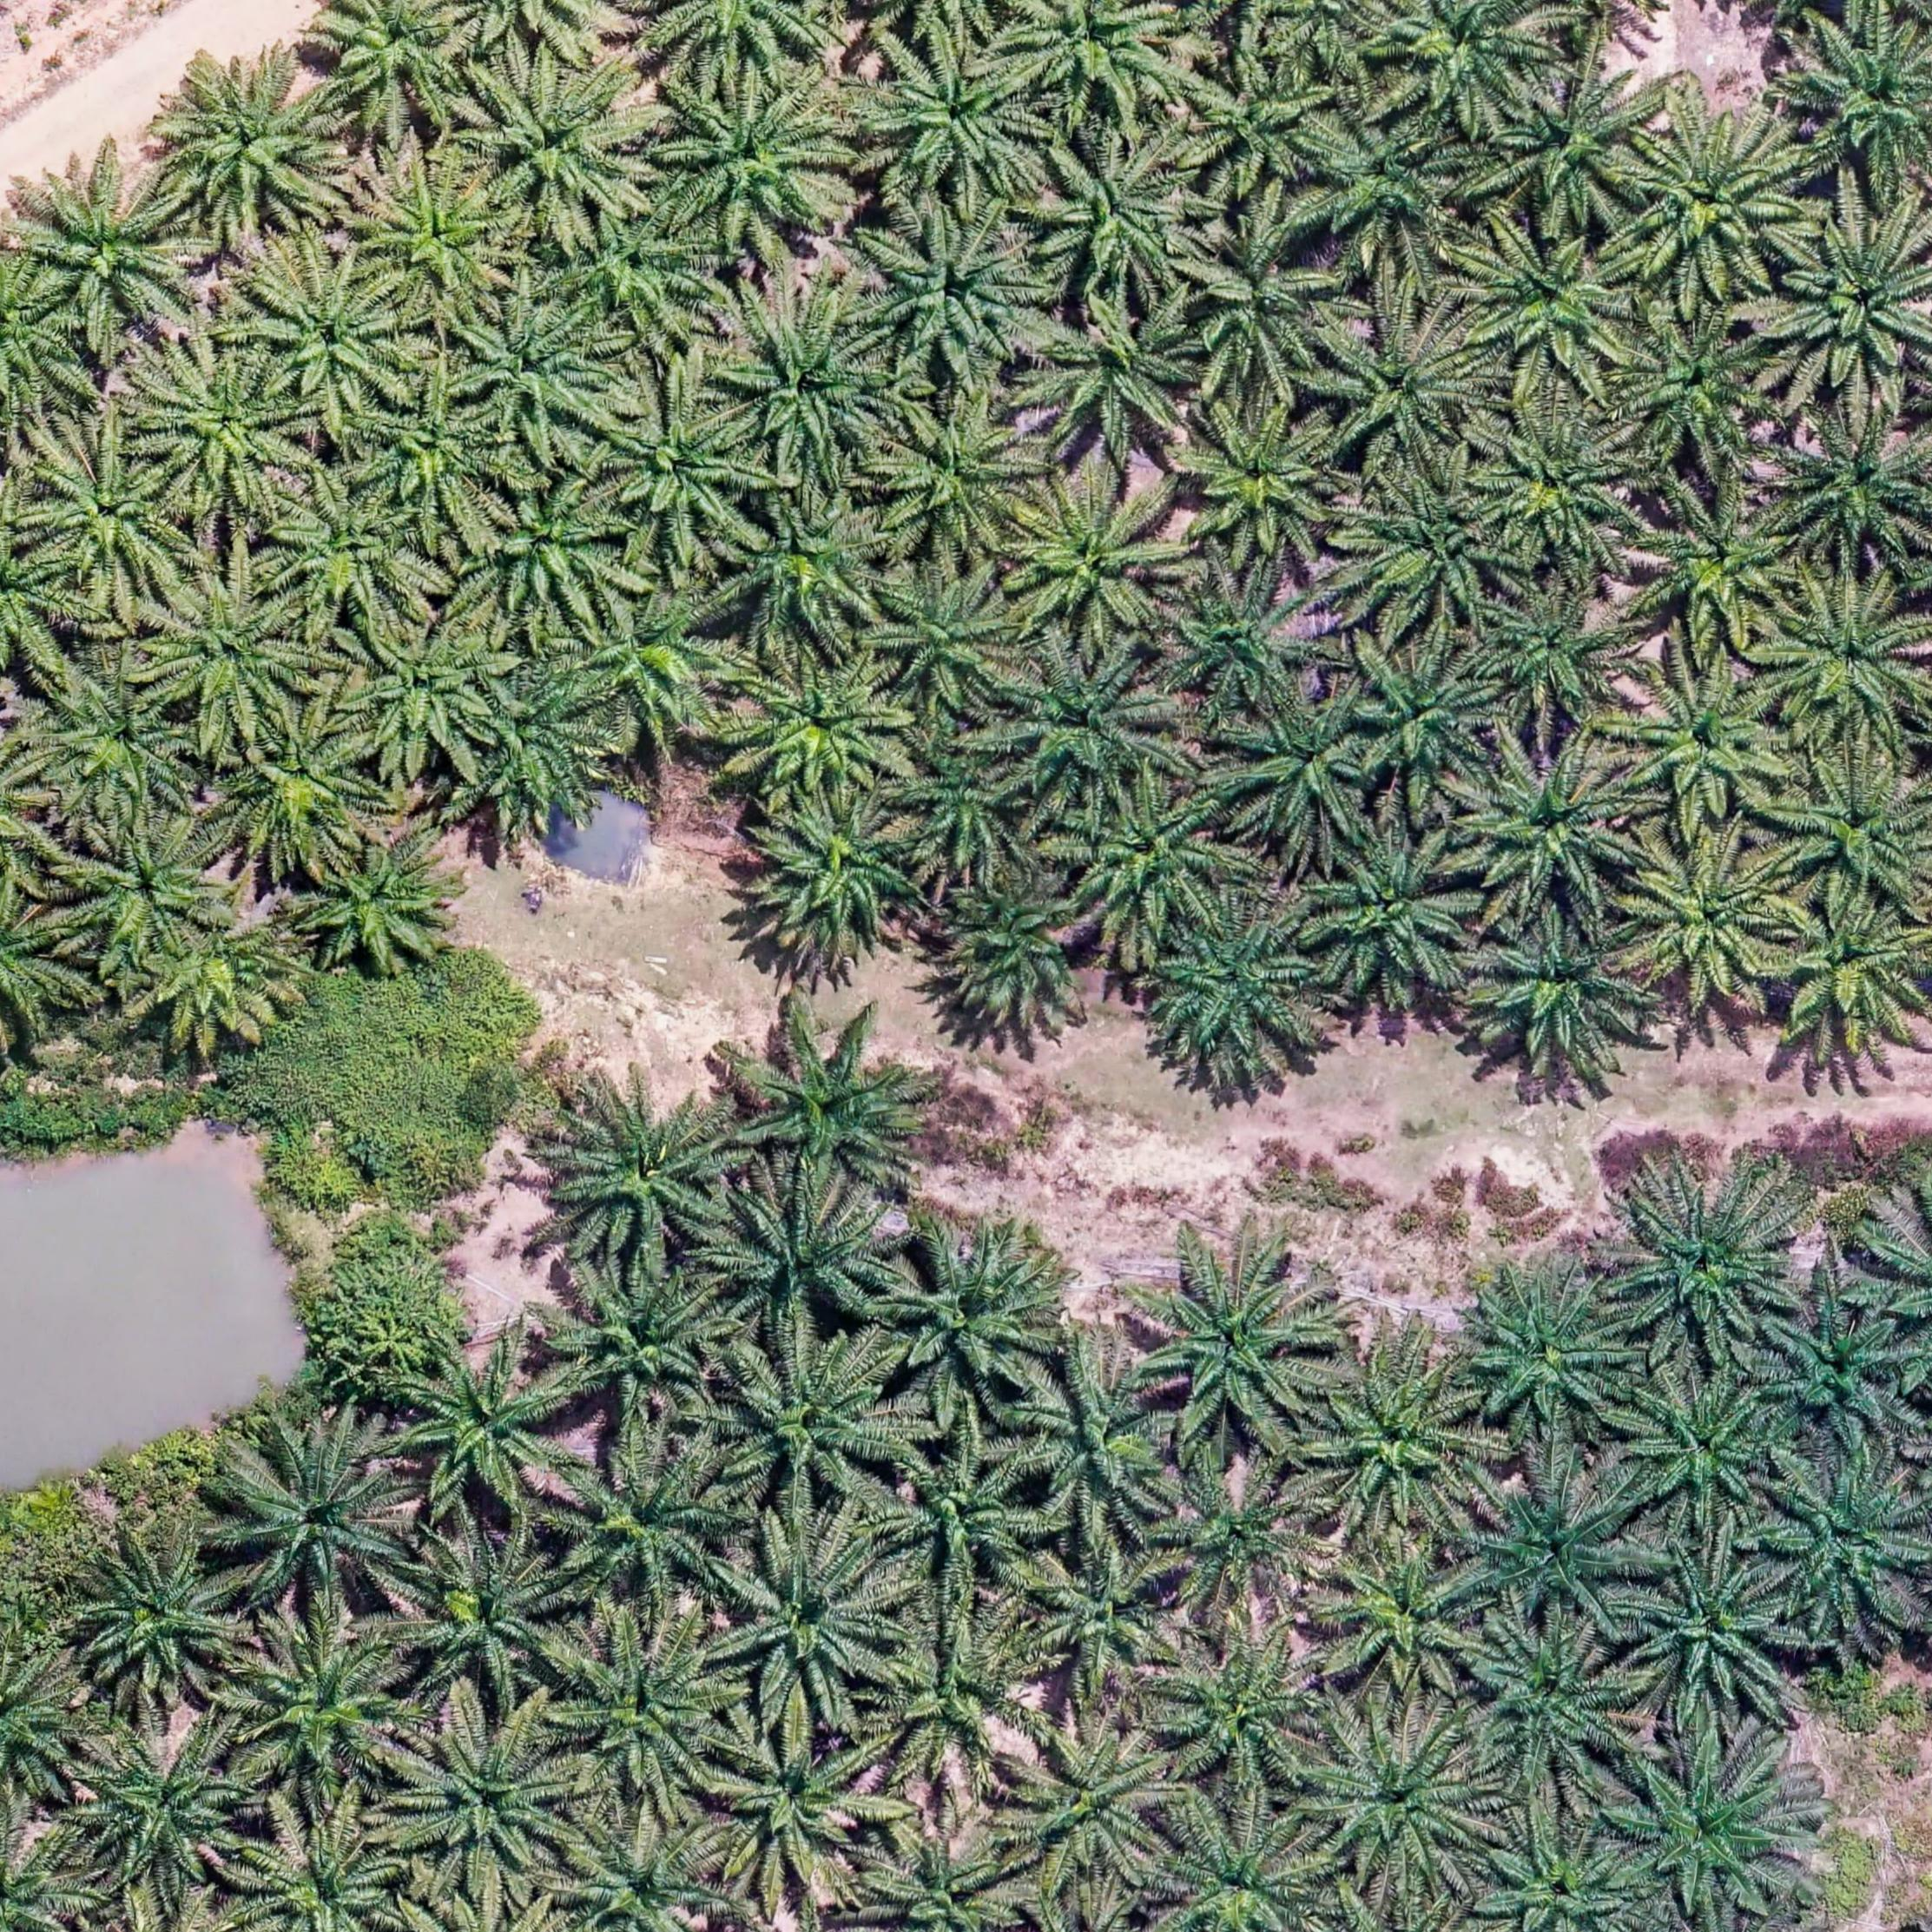palmtree: (727, 996, 950, 1205), (1134, 1240, 1343, 1445), (536, 1074, 741, 1269), (865, 1214, 1070, 1407), (715, 1522, 909, 1714), (736, 782, 934, 970), (695, 1713, 888, 1904), (1606, 1166, 1803, 1353), (1295, 809, 1484, 1000), (552, 1619, 743, 1808), (216, 1426, 416, 1605), (389, 1709, 586, 1886), (717, 1330, 911, 1507), (1612, 1737, 1803, 1916), (1320, 101, 1486, 304), (1330, 456, 1522, 633), (1615, 111, 1806, 288), (863, 1608, 1047, 1790), (1300, 1348, 1488, 1527), (1460, 738, 1649, 915), (704, 1175, 908, 1339), (1764, 207, 1932, 405), (234, 1612, 419, 1790), (1003, 1338, 1182, 1523), (1145, 899, 1332, 1076), (656, 73, 851, 241), (996, 1709, 1180, 1886), (1755, 1445, 1930, 1631), (65, 1713, 253, 1886), (391, 1532, 580, 1704), (1465, 906, 1658, 1074), (157, 57, 343, 230), (860, 205, 1047, 377), (547, 1435, 738, 1603), (1615, 823, 1796, 998), (396, 1341, 582, 1511), (858, 34, 1046, 202), (929, 860, 1106, 1037), (464, 53, 648, 223), (1304, 1711, 1488, 1881), (550, 1258, 736, 1426), (1148, 1449, 1332, 1617), (1054, 778, 1240, 945), (991, 640, 1177, 807), (1173, 389, 1350, 563), (725, 295, 899, 472), (1023, 283, 1203, 453), (1463, 1615, 1644, 1783), (1621, 476, 1801, 642), (1178, 207, 1346, 384), (1460, 1272, 1640, 1437), (1023, 134, 1205, 297), (1152, 1626, 1334, 1789), (1615, 658, 1794, 823), (21, 159, 191, 331), (448, 656, 602, 846), (1621, 1545, 1796, 1711), (1316, 306, 1493, 471), (1005, 474, 1185, 635), (1467, 1467, 1647, 1628), (1757, 571, 1930, 738), (1010, 1529, 1185, 1693), (874, 1431, 1047, 1596), (67, 1539, 246, 1698), (1311, 1536, 1490, 1695), (729, 648, 911, 803), (1755, 886, 1928, 1049), (1472, 407, 1645, 570), (1467, 221, 1642, 380), (214, 702, 382, 867), (1330, 633, 1502, 794), (1612, 299, 1783, 458), (1491, 62, 1661, 221), (340, 609, 510, 768), (720, 487, 893, 640), (1159, 564, 1338, 713), (145, 568, 310, 729), (1771, 407, 1932, 570), (878, 391, 1042, 550), (1766, 752, 1930, 908), (568, 584, 738, 734), (540, 205, 722, 345), (1223, 685, 1382, 844), (138, 349, 304, 501), (458, 288, 621, 442), (1617, 1380, 1783, 1530), (1180, 46, 1350, 191), (596, 382, 757, 534), (1794, 11, 1932, 188), (1373, 0, 1564, 127), (28, 433, 186, 587), (39, 669, 196, 819), (255, 258, 410, 409), (357, 159, 513, 310), (849, 1808, 1037, 1932), (60, 814, 221, 957), (1760, 1300, 1921, 1444), (1479, 580, 1640, 720), (1154, 1806, 1332, 1932), (870, 564, 1023, 711), (885, 722, 1035, 869), (299, 826, 453, 968), (550, 1812, 731, 1932), (234, 1812, 410, 1932), (1001, 0, 1184, 117), (359, 370, 501, 517), (479, 479, 626, 617), (1472, 1819, 1649, 1932), (313, 0, 474, 115), (276, 483, 416, 614), (143, 920, 290, 1042)
